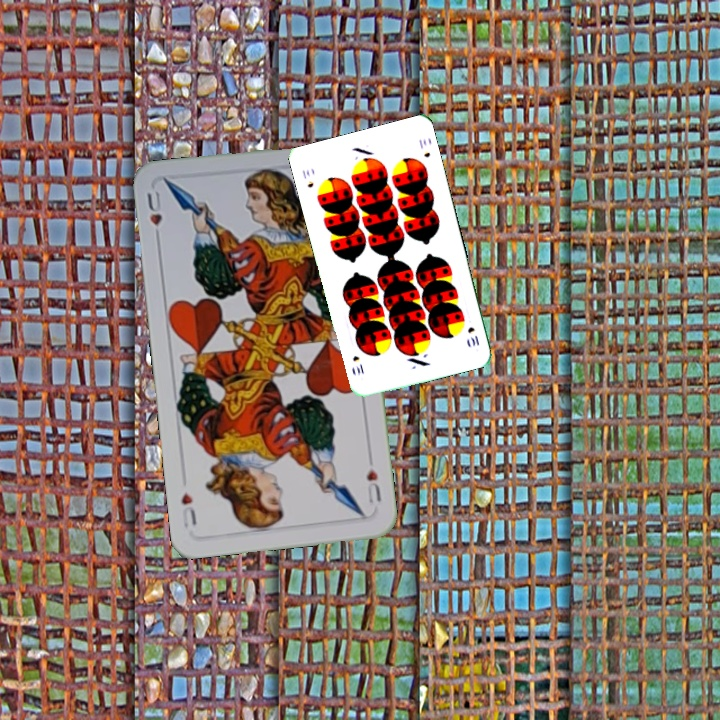HU: (143, 187, 165, 245), (363, 464, 384, 509)
S10: (463, 323, 482, 349), (298, 165, 316, 190)
